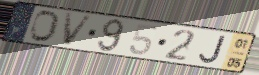2: (162, 29, 196, 62)
5: (128, 22, 159, 56)
9: (96, 18, 128, 53)
J: (197, 34, 228, 65)
O: (28, 9, 63, 44)
V: (62, 12, 96, 47)
